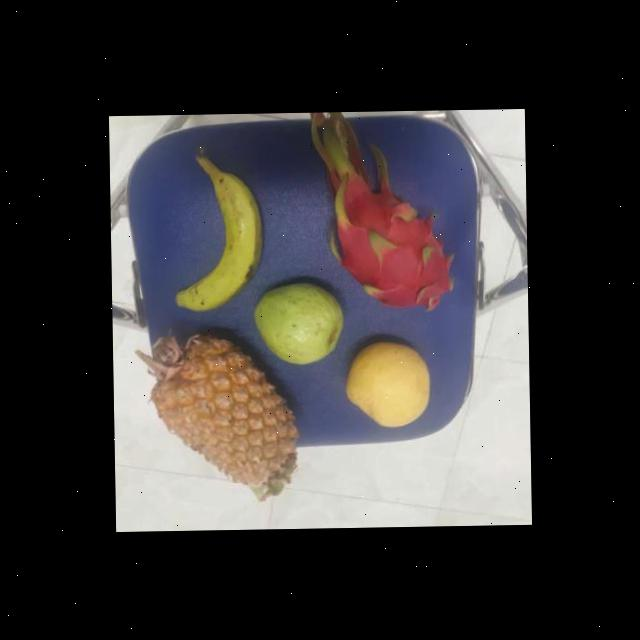banana: (174, 167, 267, 307)
guava: (255, 283, 348, 364)
pear: (342, 340, 435, 431)
pineapple: (146, 328, 302, 493)
pitaya: (326, 172, 462, 308)
